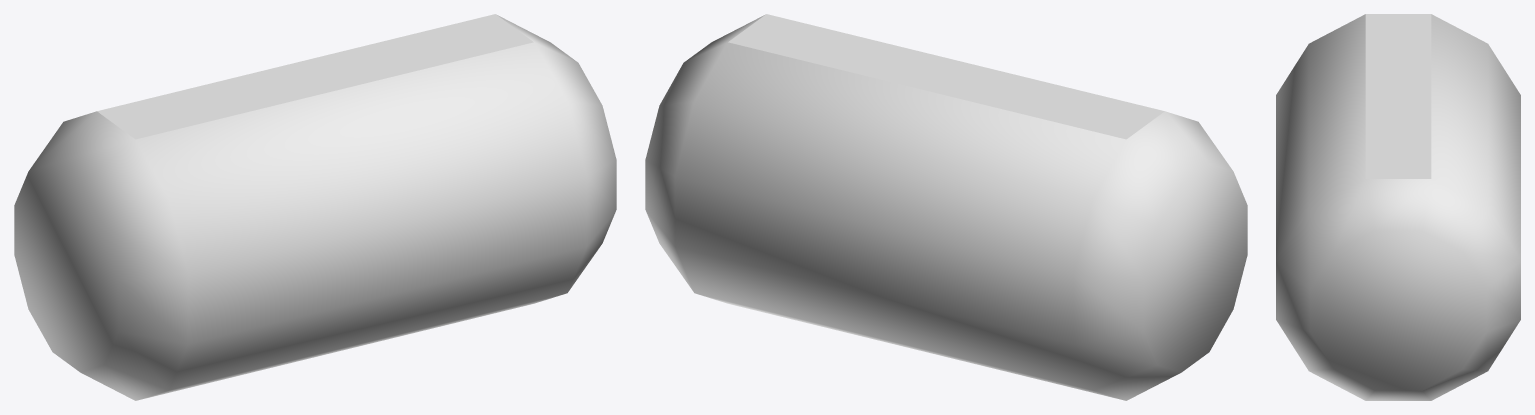
The model's file is item_rm_wool_a.obj.
3 views of the same model, side by side, from view 1: azimuth 30°, elevation 25°; view 2: azimuth 150°, elevation 25°; view 3: azimuth 270°, elevation 25° (orthographic). The views are drawn at different scales.
Visible parts, largest first — view 1: item_rm_wool_a; view 2: item_rm_wool_a; view 3: item_rm_wool_a.
Boxes of the visible parts, box(x1,y1,x2,y2) form: item_rm_wool_a: box(14, 14, 616, 400); item_rm_wool_a: box(645, 14, 1247, 400); item_rm_wool_a: box(1276, 14, 1520, 400).
Size of the model in its own units: 0.854 by 0.4283 by 0.4284.
